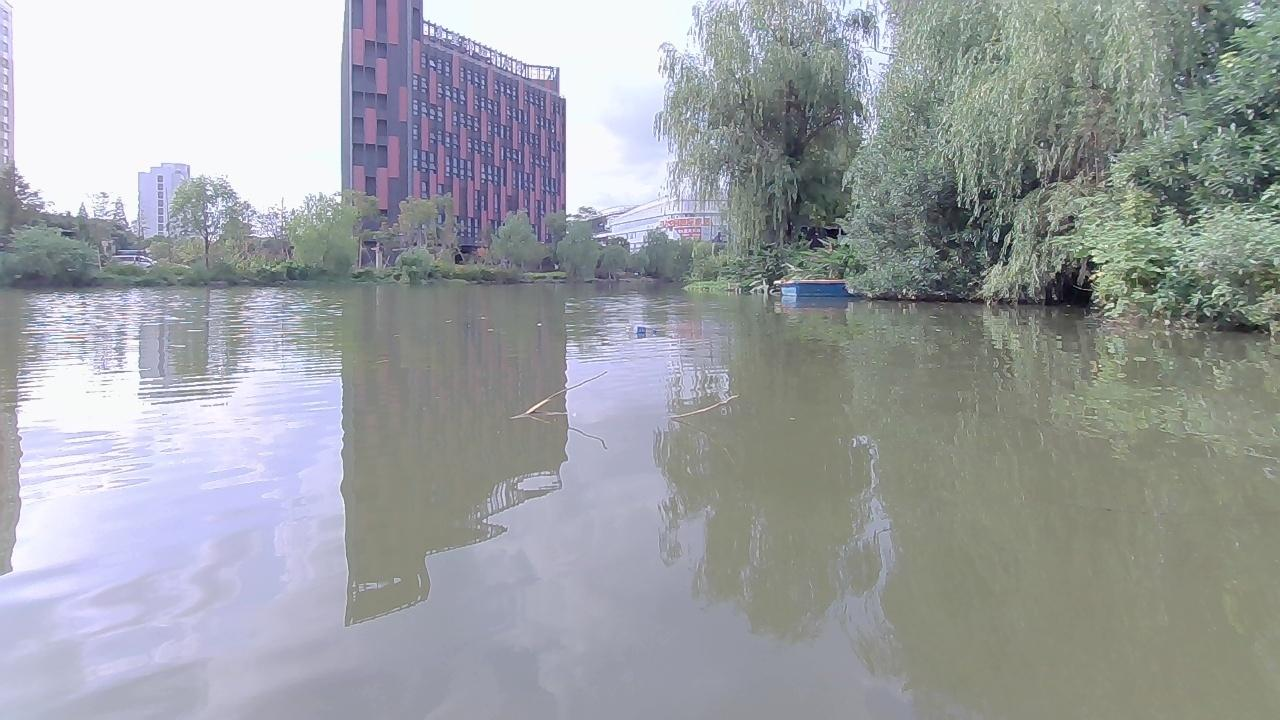bottle: (622, 319, 660, 339)
